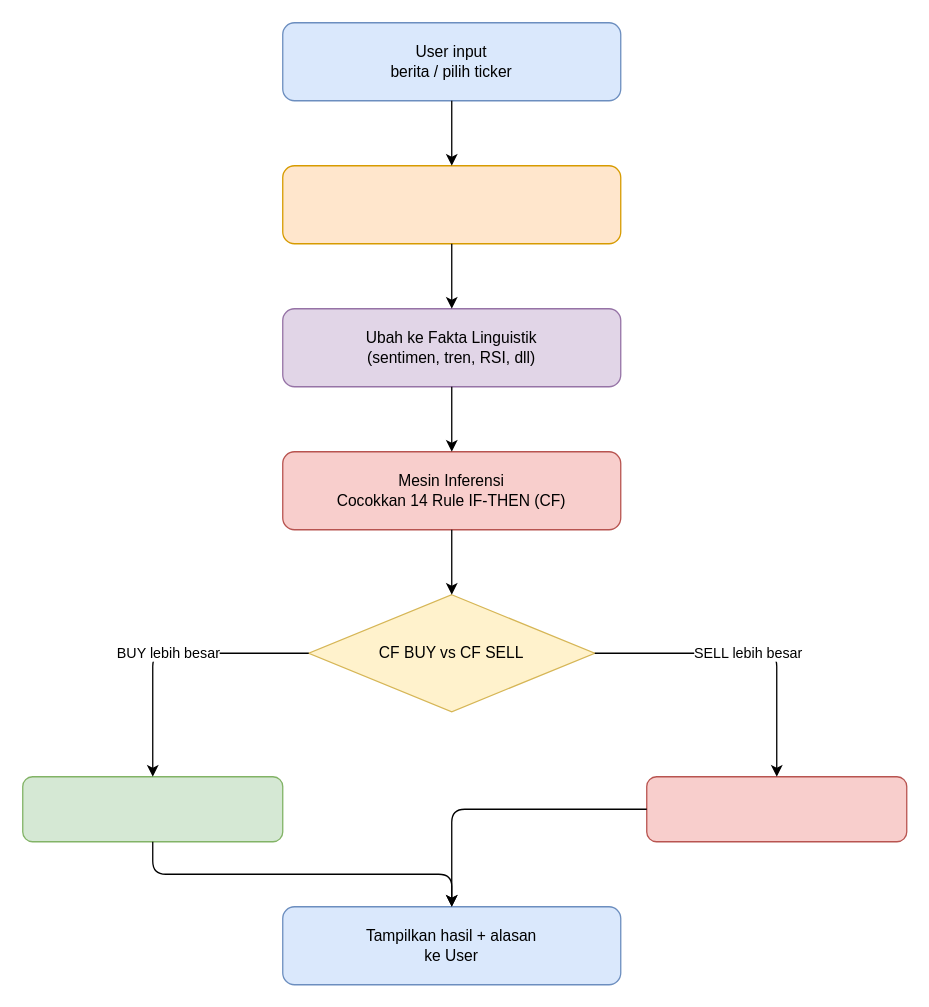
Some shapes in this 929 by 1007 pixel diagram are drawn without their labels. Here are the shapes that lost their labels. From the top down, the centre of each, then its label:
At point (451, 204): "Analisis Teks Berita (Headline vs Isi Berita)".
At point (152, 808): "Rekomendasi: BUY".
At point (776, 808): "Rekomendasi: SELL".
